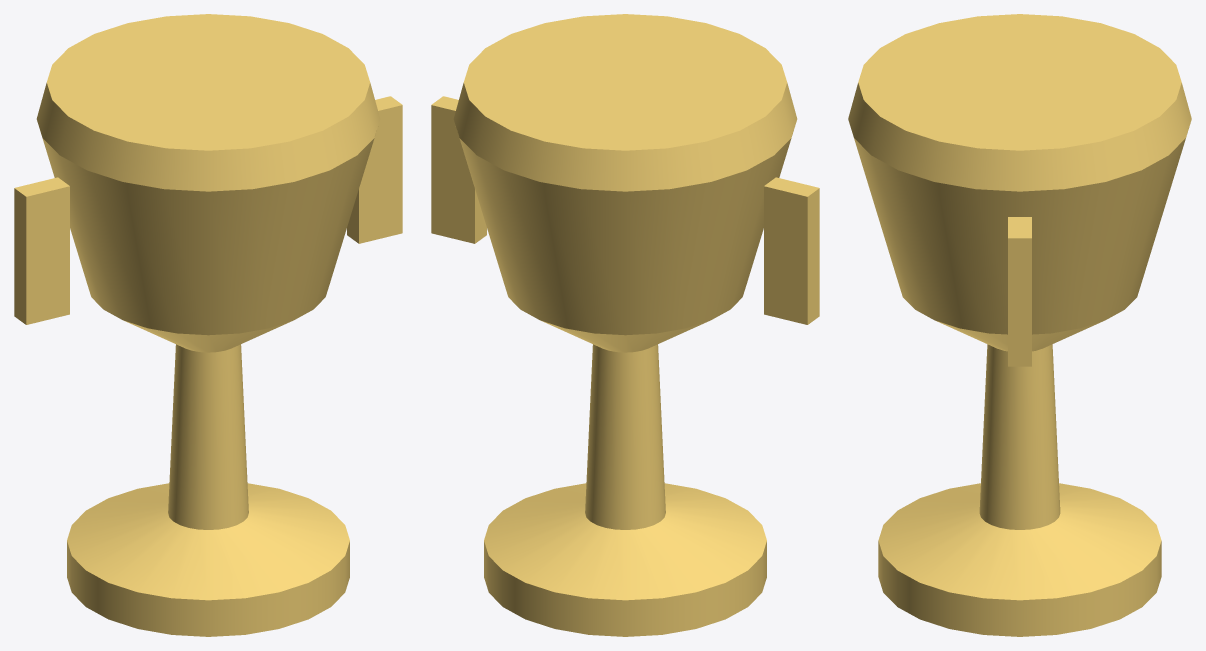
Rendered from trophy.glb.
3 renders of one model, left to right at view 1: azimuth 30°, elevation 25°; view 2: azimuth 150°, elevation 25°; view 3: azimuth 270°, elevation 25°, orthographic.
Visible parts, largest first — view 1: trophy.glb; view 2: trophy.glb; view 3: trophy.glb.
Boxes of the visible parts, bbox=[...] form: trophy.glb: bbox=[14, 14, 402, 636]; trophy.glb: bbox=[431, 14, 819, 636]; trophy.glb: bbox=[848, 14, 1191, 636].
Bounding box in the file's own units: 0.215 × 0.27 × 0.17.
